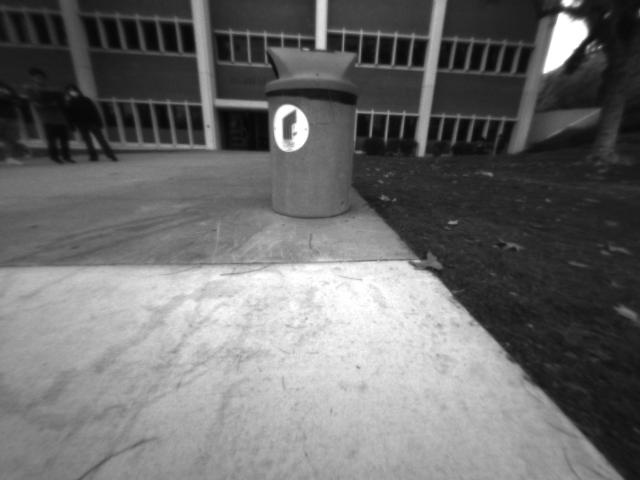trashcan: (263, 41, 359, 219)
